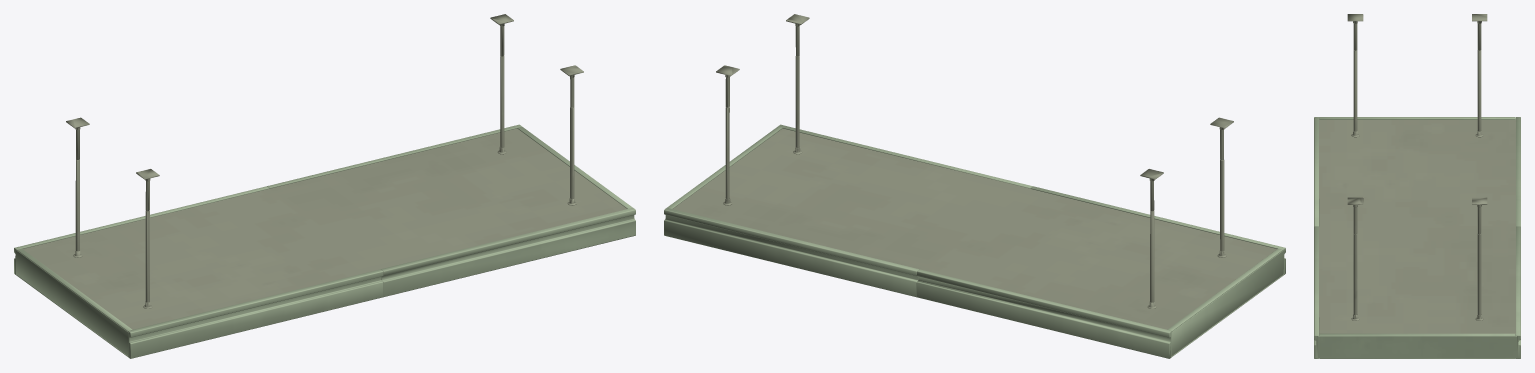
File: SR-lamp_ceiling_1m_rectangle_a01.glb
The picture shows the model from 3 angles, left to right: view 1: azimuth 30°, elevation 25°; view 2: azimuth 150°, elevation 25°; view 3: azimuth 270°, elevation 25°; orthographic projection. The views are drawn at different scales.
Parts seen in each view (by area): view 1: ceilinglamp_01_mesh_00; view 2: ceilinglamp_01_mesh_00; view 3: ceilinglamp_01_mesh_00.
Boxes of the visible parts, bbox=[...] form: ceilinglamp_01_mesh_00: bbox=[14, 14, 635, 358]; ceilinglamp_01_mesh_00: bbox=[664, 14, 1285, 358]; ceilinglamp_01_mesh_00: bbox=[1314, 14, 1520, 358].
Bounding box in the file's own units: 1 × 0.3 × 0.3999.
Materials: 3 (3 with a texture image).
